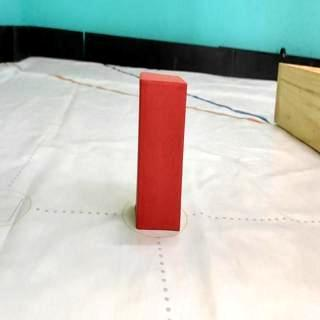redbox: (135, 70, 187, 230)
